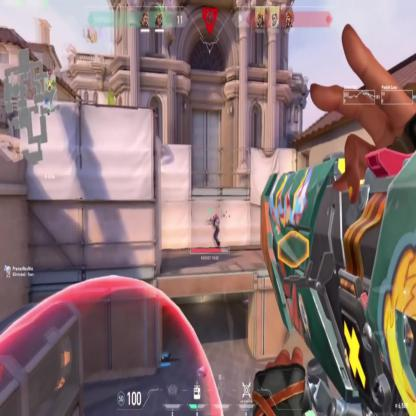enemy: (213, 213, 220, 249)
enemy_head: (214, 213, 218, 219)
